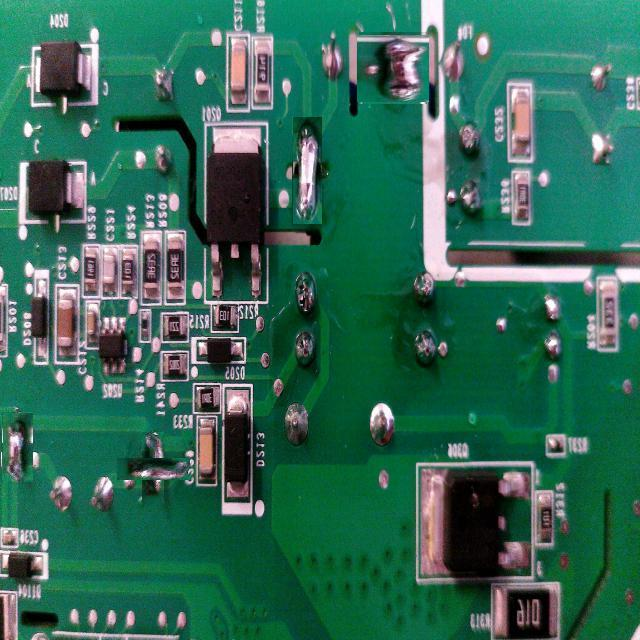Short_circuit: (358, 33, 428, 103), (292, 116, 322, 224), (1, 412, 34, 482), (129, 445, 177, 493)
